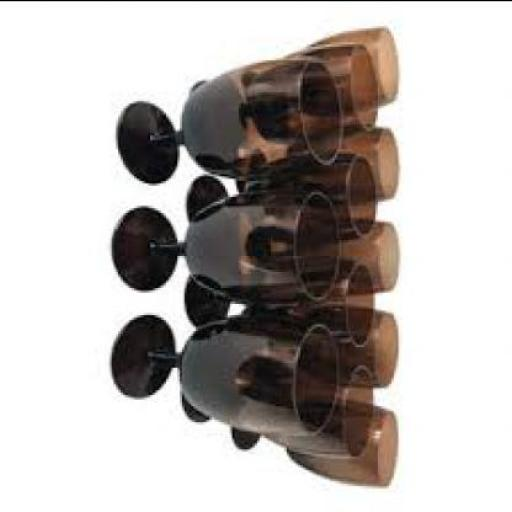glass: (120, 54, 346, 180), (112, 312, 343, 430), (112, 184, 343, 302), (182, 360, 376, 456), (188, 148, 378, 241), (191, 41, 380, 134), (189, 255, 376, 341), (232, 398, 401, 483), (232, 307, 401, 385), (237, 123, 401, 201), (300, 25, 400, 104), (304, 218, 400, 294)
